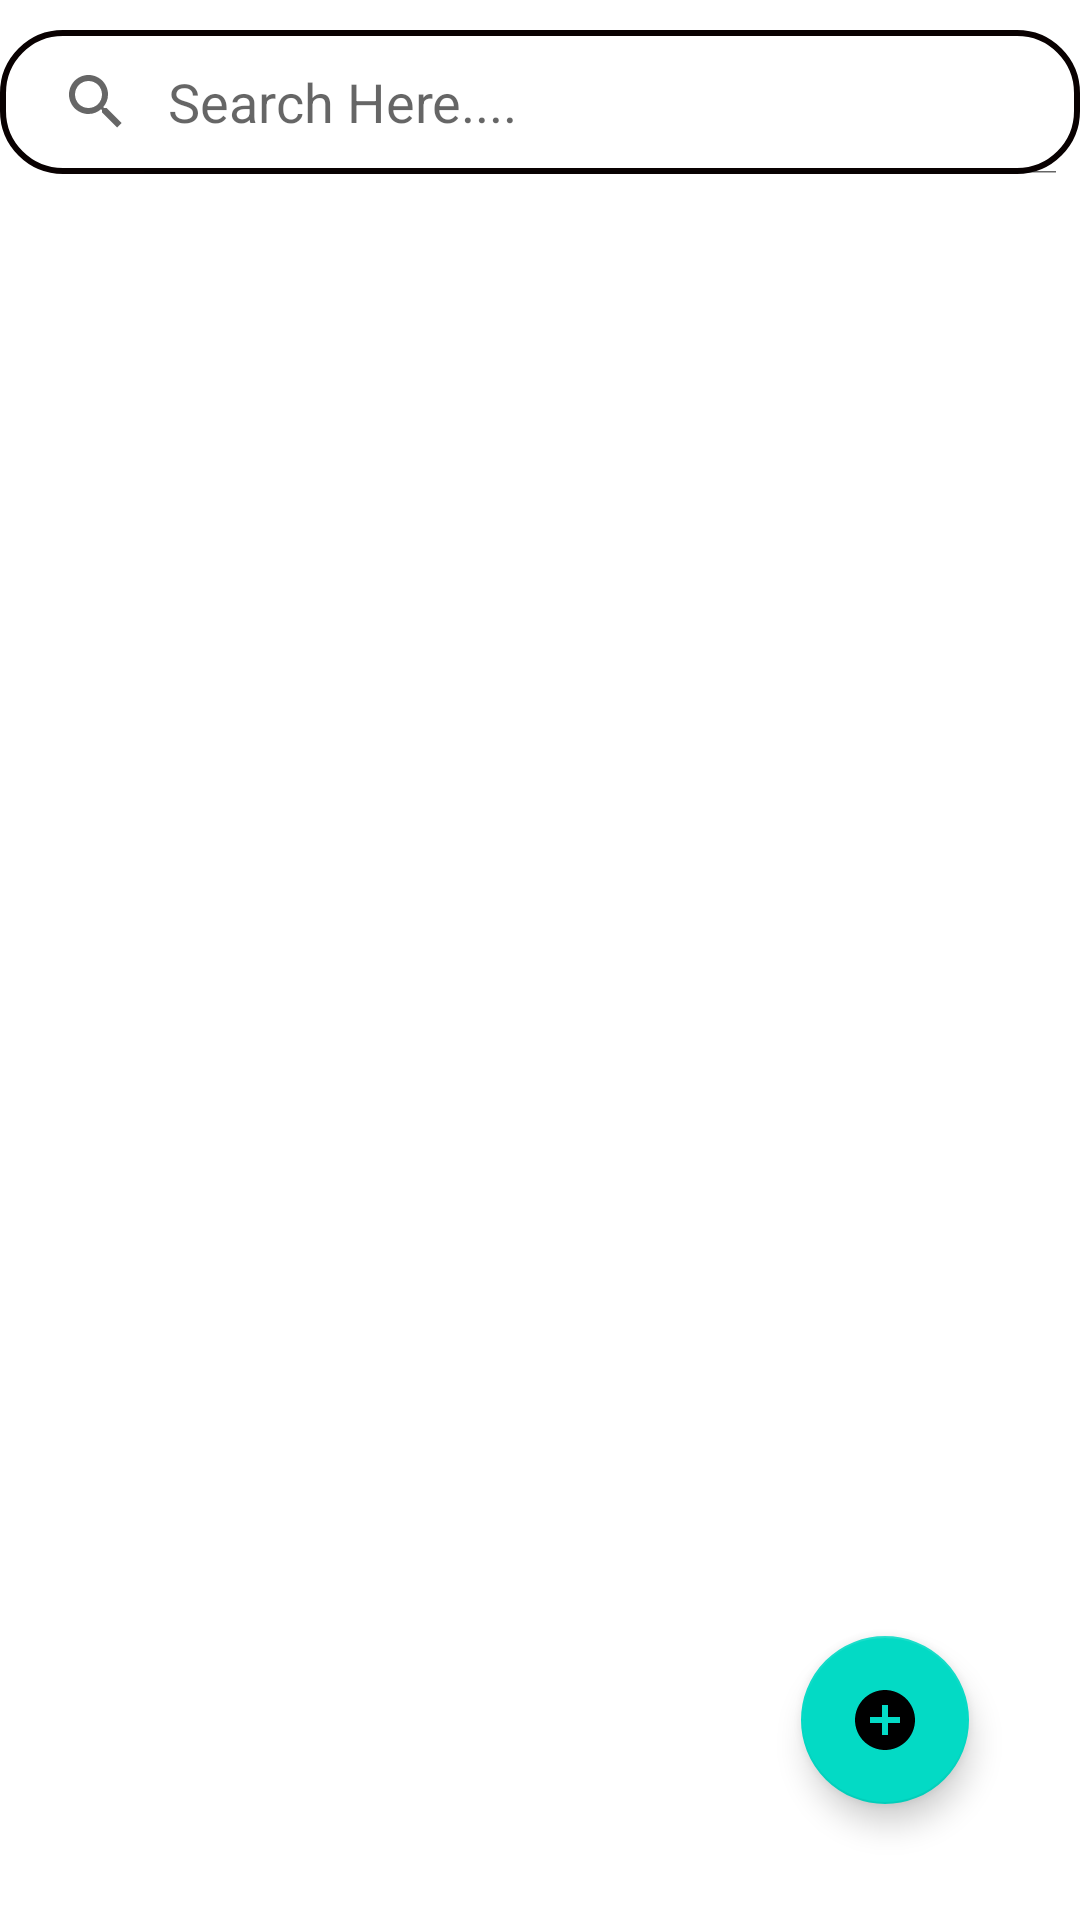

Icon bounding boxes for this 1080x1920 phone screenshot, format (x1, y1, x2, y2):
add circle: (801, 1636, 969, 1804)
